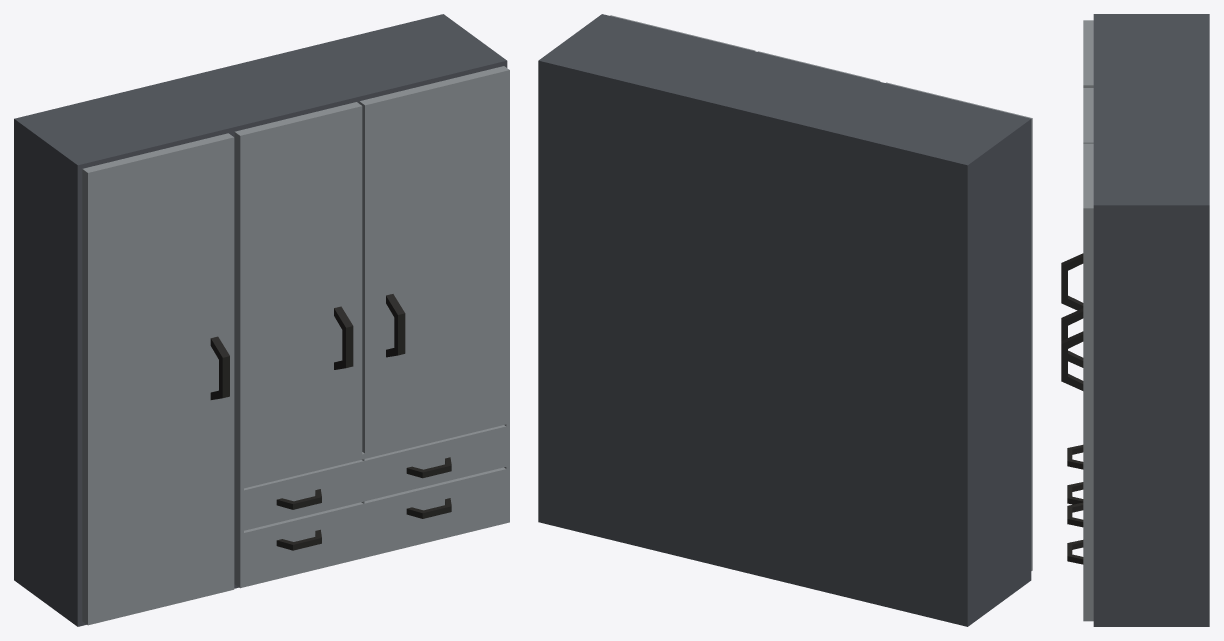
Rendered from WardRobe_3C.fbx.
3 renders of one model, left to right at view 1: azimuth 30°, elevation 25°; view 2: azimuth 150°, elevation 25°; view 3: azimuth 270°, elevation 25°, orthographic. The views are drawn at different scales.
Parts seen in each view (by area): view 1: polySurface1717; view 2: polySurface1717; view 3: polySurface1717.
Part boxes in pixels (x1,y1,x2,y2): polySurface1717: (14,14,509,626); polySurface1717: (538,14,1032,626); polySurface1717: (1061,14,1209,626).
Size of the model in its own units: 3.31 by 3.4 by 1.09.
Materials: 1 (1 with a texture image).
